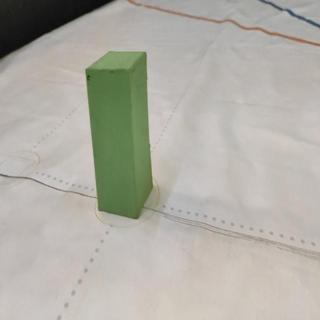greenbox: (86, 51, 153, 218)
